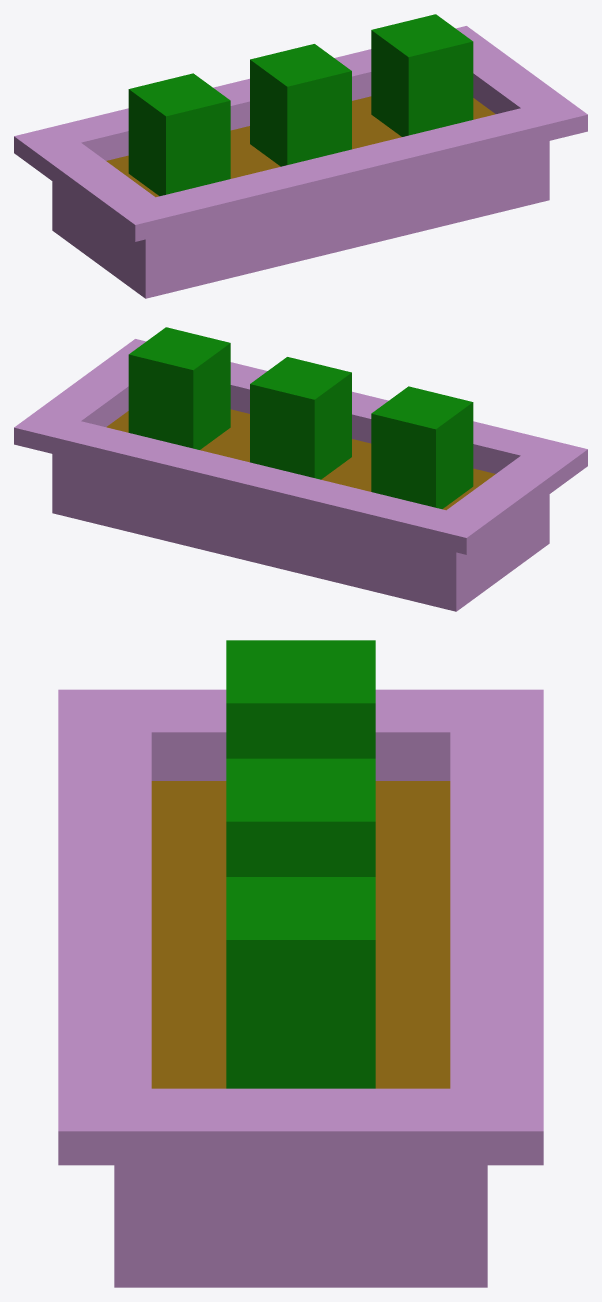
The model's file is plant2.fbx.
3 renders of one model, top to bottom at view 1: azimuth 30°, elevation 25°; view 2: azimuth 150°, elevation 25°; view 3: azimuth 270°, elevation 25°, orthographic. The views are drawn at different scales.
Parts seen in each view (by area): view 1: vase, plan2; view 2: vase, plan2; view 3: vase, plan2.
Boxes of the visible parts, bbox=[...] form: vase: bbox=[14, 26, 587, 298]; plan2: bbox=[128, 14, 473, 196]; vase: bbox=[14, 339, 587, 611]; plan2: bbox=[128, 327, 473, 509]; vase: bbox=[58, 689, 543, 1287]; plan2: bbox=[226, 640, 375, 1088].
Size of the model in its own units: 168 by 53.23 by 78.
